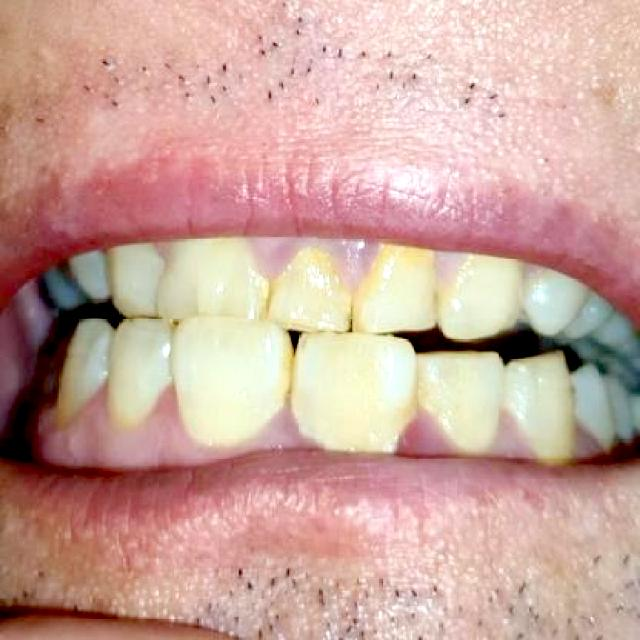Plaque: (280, 415, 321, 446), (397, 424, 430, 455)
